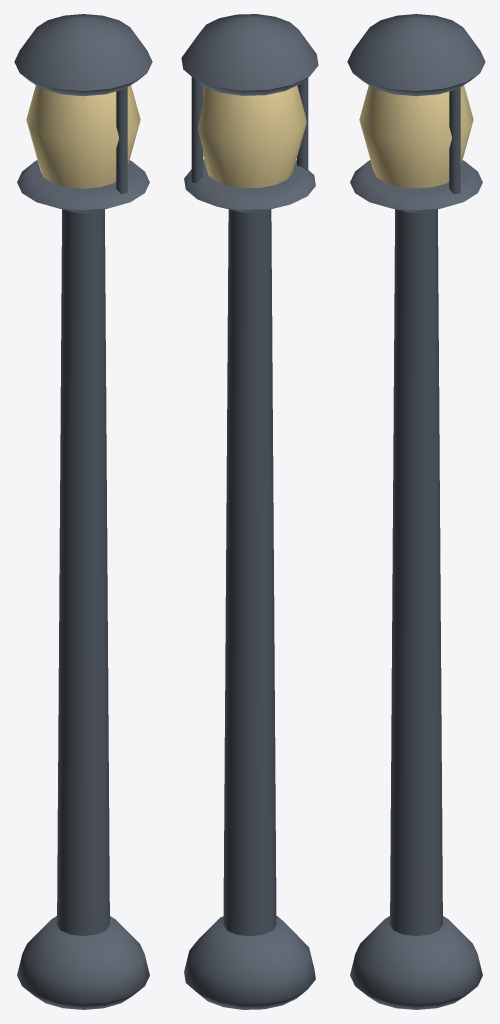
File: town_lamp.glb
3 renders of one model, left to right at view 1: azimuth 90°, elevation 25°; view 2: azimuth 150°, elevation 25°; view 3: azimuth 270°, elevation 25°, orthographic.
Visible parts, largest first — view 1: post, lantern_frame, base, bulb; view 2: post, lantern_frame, bulb, base; view 3: post, lantern_frame, base, bulb.
Boxes of the visible parts, box(x1,y1,x2,y2) form: post: box(57, 209, 109, 935); lantern_frame: box(14, 14, 152, 212); base: box(17, 916, 149, 1009); bulb: box(26, 85, 140, 188); post: box(223, 209, 276, 935); lantern_frame: box(181, 14, 318, 212); bulb: box(197, 85, 306, 188); base: box(184, 916, 315, 1009); post: box(390, 209, 442, 935); lantern_frame: box(347, 14, 485, 212); base: box(350, 916, 482, 1009); bulb: box(359, 85, 473, 188).
Bounding box in the file's own units: 0.52 × 4.02 × 0.52.
